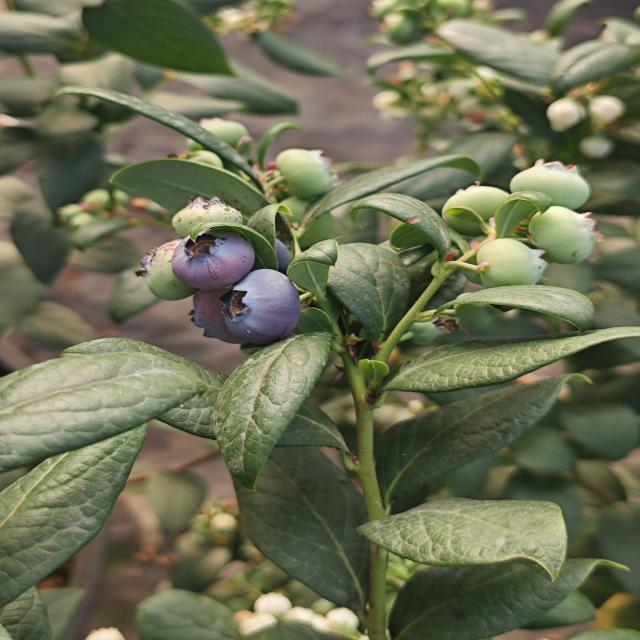ripe: (212, 270, 308, 340), (156, 232, 254, 284), (232, 224, 304, 276)
